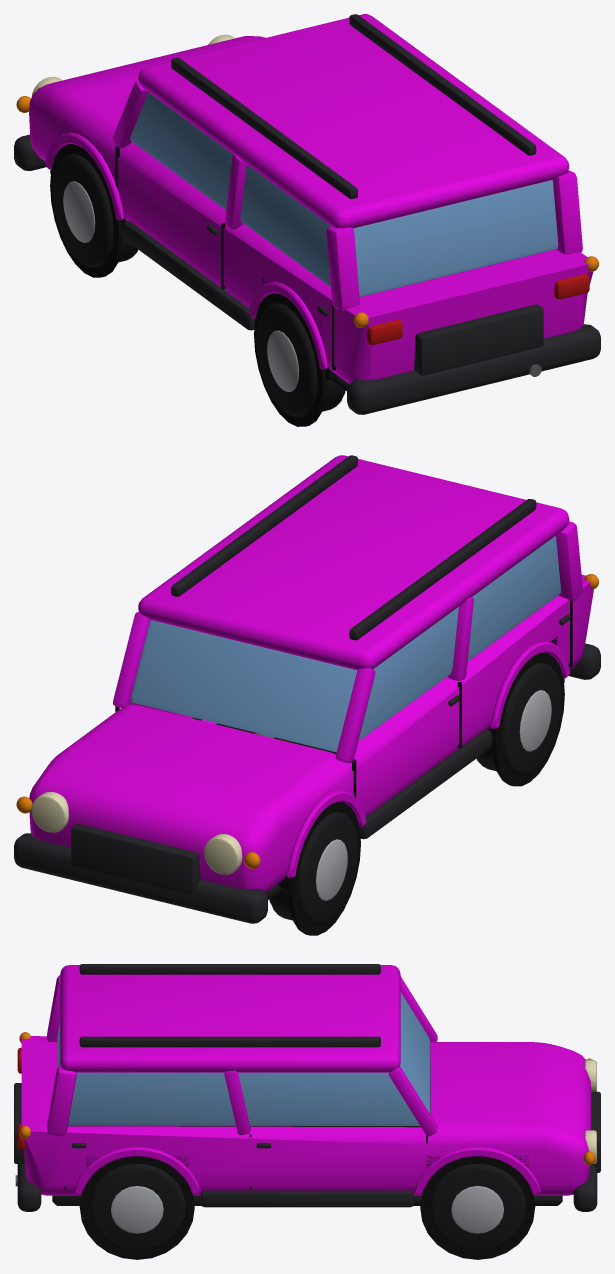
File: MesaTrailhound_Player.fbx
3 views of the same model, one above another, from view 1: azimuth 30°, elevation 25°; view 2: azimuth 150°, elevation 25°; view 3: azimuth 270°, elevation 25° (orthographic). The views are drawn at different scales.
Parts seen in each view (by area): view 1: MesaTrailhound_Player; view 2: MesaTrailhound_Player; view 3: MesaTrailhound_Player.
Boxes of the visible parts, bbox=[...] form: MesaTrailhound_Player: bbox=[14, 14, 600, 426]; MesaTrailhound_Player: bbox=[14, 455, 600, 935]; MesaTrailhound_Player: bbox=[14, 964, 600, 1259].
Size of the model in its own units: 2.02 by 1.9 by 4.83.
